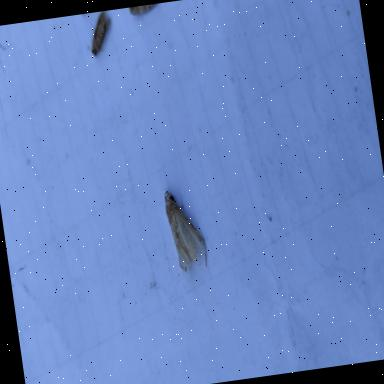pbw: (162, 179, 210, 275), (86, 10, 114, 55)
